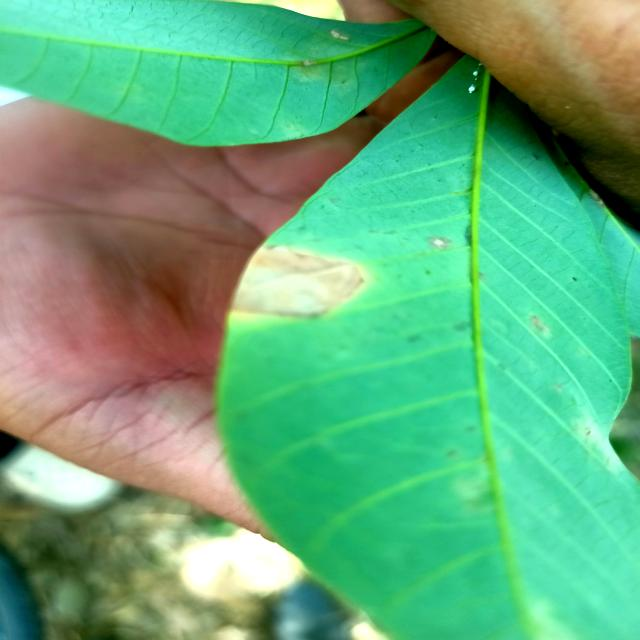Leaf-Blight: (227, 243, 366, 320)
